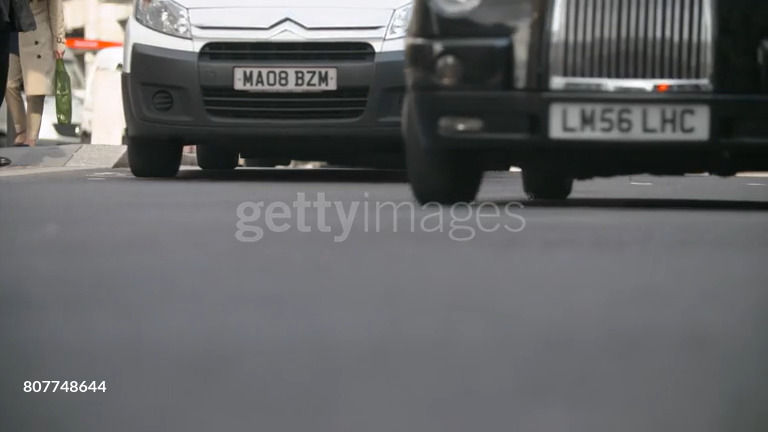car_number: (549, 103, 709, 140), (234, 67, 336, 91)
